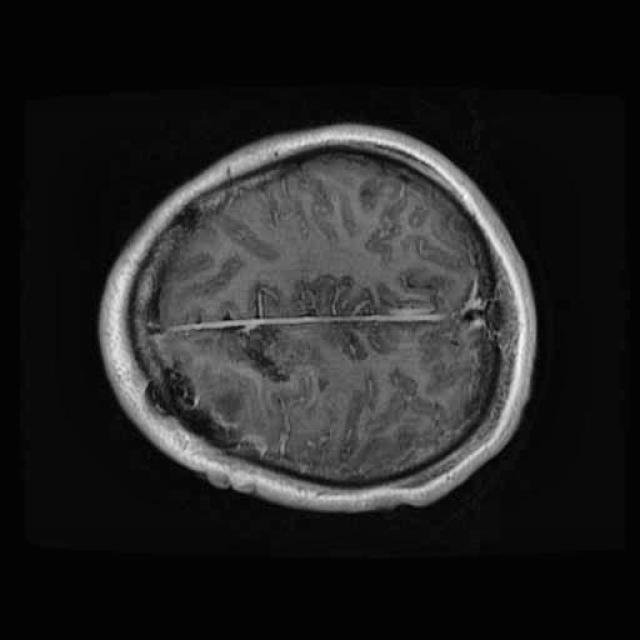Tumor: (126, 344, 264, 470)
